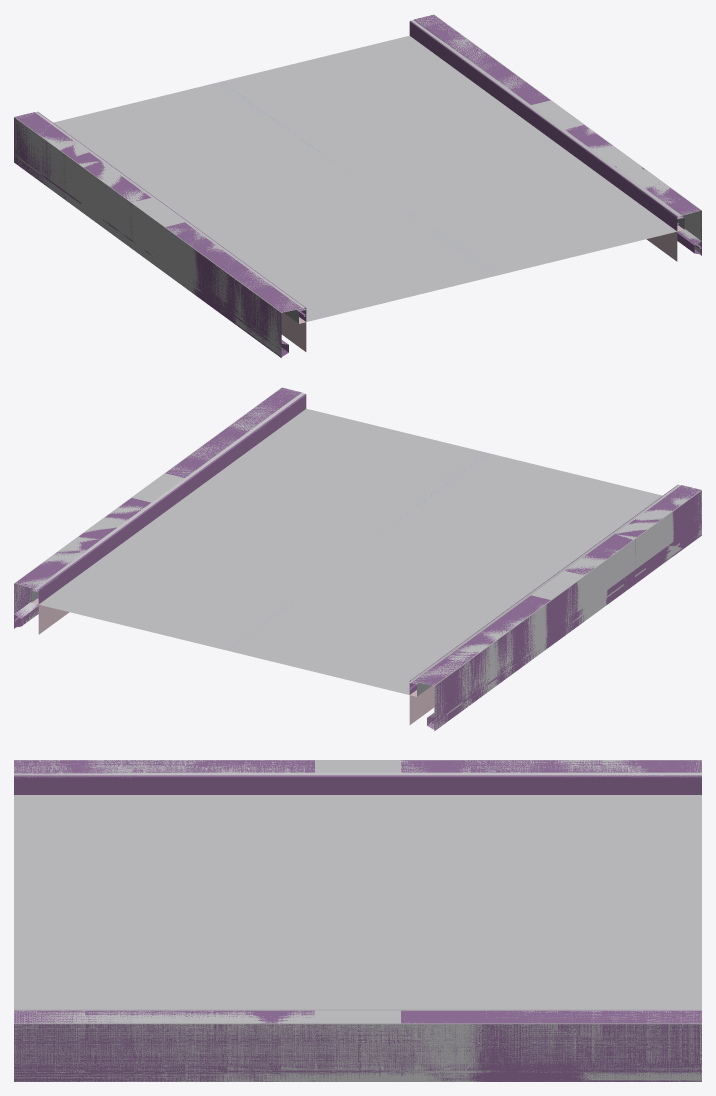
The picture shows the model from 3 angles, top to bottom: view 1: azimuth 30°, elevation 25°; view 2: azimuth 150°, elevation 25°; view 3: azimuth 270°, elevation 25°; orthographic projection. The views are drawn at different scales.
Visible parts, largest first — view 1: Visual, Rubber, Plastic; view 2: Visual, Rubber, Plastic; view 3: Visual, Rubber.
Boxes of the visible parts, <box> form: Visual: <box>14,14,701,357</box>; Rubber: <box>14,14,701,357</box>; Plastic: <box>281,225,684,351</box>; Visual: <box>14,387,701,730</box>; Rubber: <box>14,387,701,730</box>; Plastic: <box>31,598,434,724</box>; Visual: <box>14,760,701,1081</box>; Rubber: <box>14,760,701,1081</box>.
Size of the model in its own units: 29 by 3 by 32.
